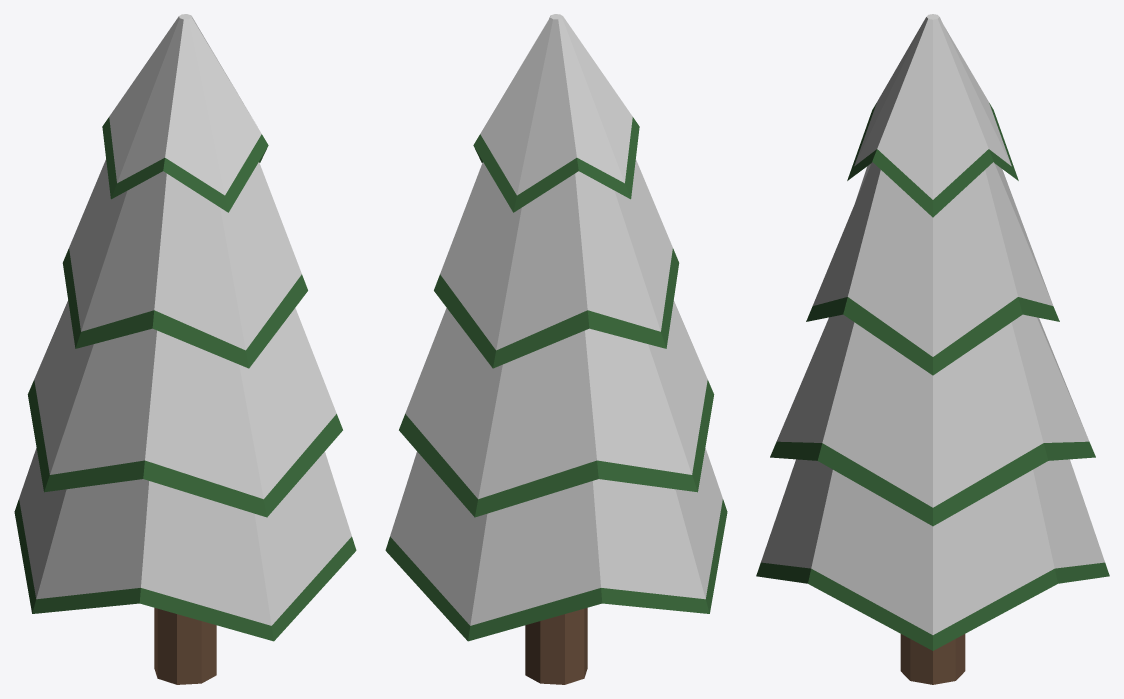
The model's file is Tree.fbx.
3 renders of one model, left to right at view 1: azimuth 30°, elevation 25°; view 2: azimuth 150°, elevation 25°; view 3: azimuth 270°, elevation 25°, orthographic.
Visible parts, largest first — view 1: Circle.002; view 2: Circle.002; view 3: Circle.002.
Part boxes in pixels (left/top/right/bottom): Circle.002: left=14, top=14, right=356, bottom=684; Circle.002: left=385, top=14, right=727, bottom=684; Circle.002: left=756, top=14, right=1109, bottom=684.
Size of the model in its own units: 169 by 345 by 169.
